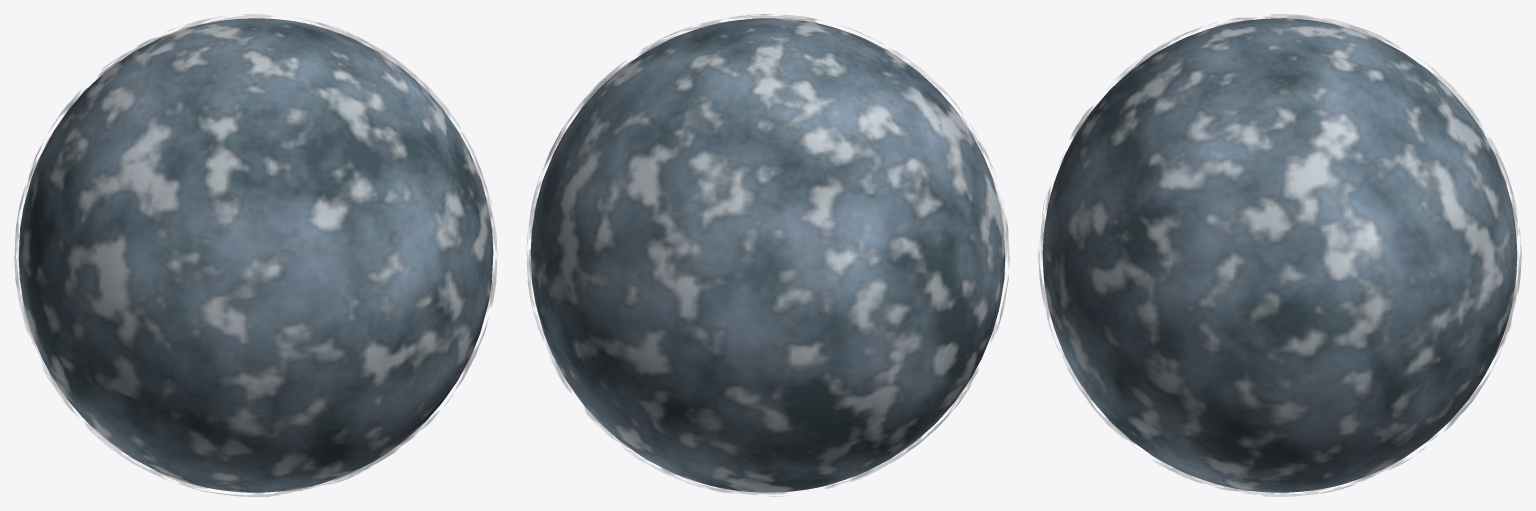
File: planet_ice_001.glb
3 renders of one model, left to right at view 1: azimuth 30°, elevation 25°; view 2: azimuth 150°, elevation 25°; view 3: azimuth 270°, elevation 25°, orthographic.
Parts seen in each view (by area): view 1: Planet_ice_001, Clouds_ice_001; view 2: Planet_ice_001, Clouds_ice_001; view 3: Planet_ice_001, Clouds_ice_001.
Part boxes in pixels (left/top/right/bottom): Planet_ice_001: left=18, top=18, right=493, bottom=492; Clouds_ice_001: left=14, top=14, right=497, bottom=496; Planet_ice_001: left=530, top=18, right=1005, bottom=492; Clouds_ice_001: left=527, top=14, right=1009, bottom=496; Planet_ice_001: left=1042, top=18, right=1517, bottom=492; Clouds_ice_001: left=1038, top=14, right=1521, bottom=496.
Bounding box in the file's own units: 2.04 × 2.04 × 2.04.
Materials: 2 (2 with a texture image).
